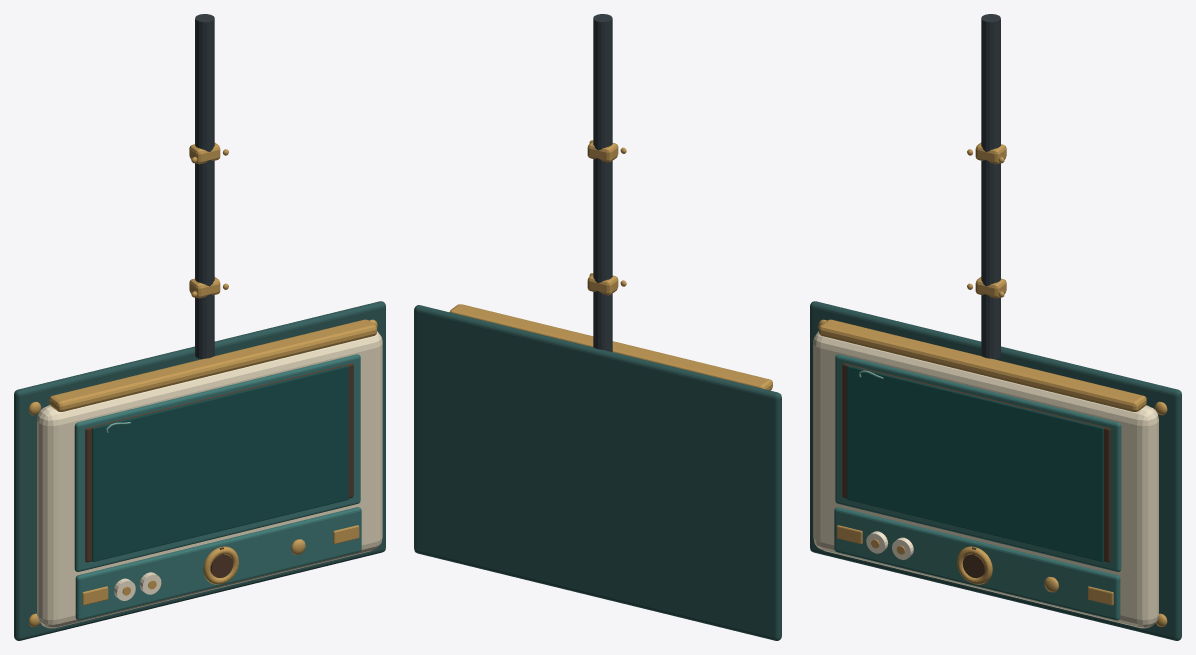
The picture shows the model from 3 angles, left to right: view 1: azimuth 30°, elevation 25°; view 2: azimuth 150°, elevation 25°; view 3: azimuth 330°, elevation 25°; orthographic projection.
Parts seen in each view (by area): view 1: terminal_screen, Cream enamel housing, Teal wall plate, Teal jack panel, Teal inner bezel, Wall conduit, Brass top rail, Dark screen well, Socket brass collar; view 2: Teal wall plate, Wall conduit, Brass top rail; view 3: terminal_screen, Cream enamel housing, Teal wall plate, Teal jack panel, Teal inner bezel, Wall conduit, Brass top rail, Dark screen well, Socket brass collar.
Part boxes in pixels (left/top/right/bottom): terminal_screen: left=92, top=365, right=348, bottom=561; Cream enamel housing: left=37, top=331, right=382, bottom=628; Teal wall plate: left=14, top=301, right=385, bottom=640; Teal jack panel: left=75, top=507, right=361, bottom=620; Teal inner bezel: left=74, top=354, right=360, bottom=571; Wall conduit: left=195, top=14, right=214, bottom=359; Brass top rail: left=49, top=319, right=376, bottom=411; Dark screen well: left=85, top=363, right=353, bottom=562; Socket brass collar: left=203, top=546, right=238, bottom=584; Teal wall plate: left=414, top=305, right=781, bottom=640; Wall conduit: left=593, top=14, right=612, bottom=351; Brass top rail: left=449, top=304, right=772, bottom=390; terminal_screen: left=847, top=365, right=1103, bottom=561; Cream enamel housing: left=813, top=331, right=1158, bottom=628; Teal wall plate: left=810, top=301, right=1181, bottom=640; Teal jack panel: left=834, top=507, right=1120, bottom=620; Teal inner bezel: left=835, top=354, right=1121, bottom=571; Wall conduit: left=981, top=14, right=1000, bottom=359; Brass top rail: left=819, top=319, right=1146, bottom=411; Dark screen well: left=842, top=363, right=1110, bottom=562; Socket brass collar: left=957, top=546, right=992, bottom=584.
Size of the model in its own units: 1.3 by 1.95 by 0.161.
